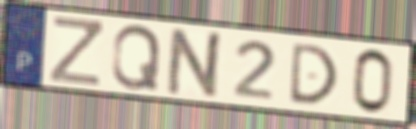0: (350, 47, 396, 114)
2: (232, 38, 278, 102)
D: (287, 41, 341, 106)
N: (163, 26, 229, 101)
Q: (109, 23, 164, 92)
Z: (47, 14, 104, 88)
